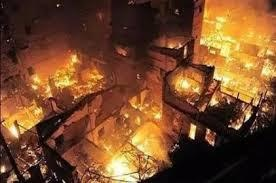fire: (2, 50, 97, 140)
